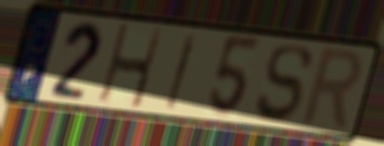2: (42, 17, 108, 107)
5: (205, 31, 265, 122)
H: (96, 21, 165, 111)
I: (163, 31, 201, 112)
R: (295, 45, 366, 135)
S: (253, 43, 316, 125)
